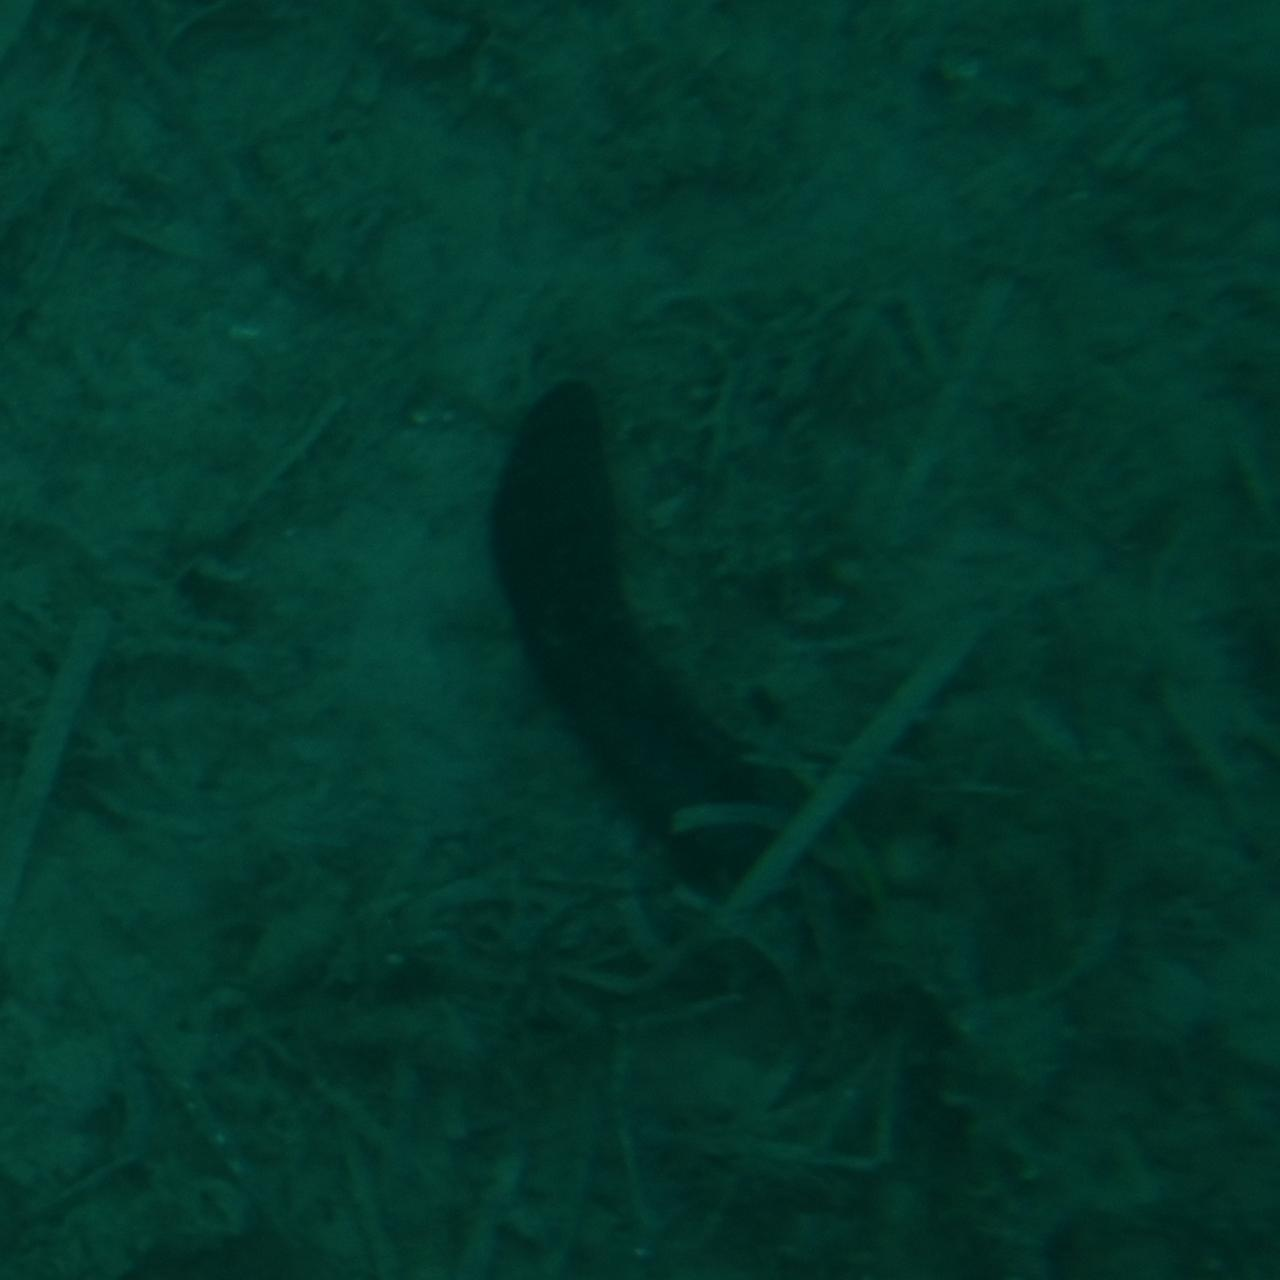Holothuria tubulosa: (496, 372, 784, 908)
